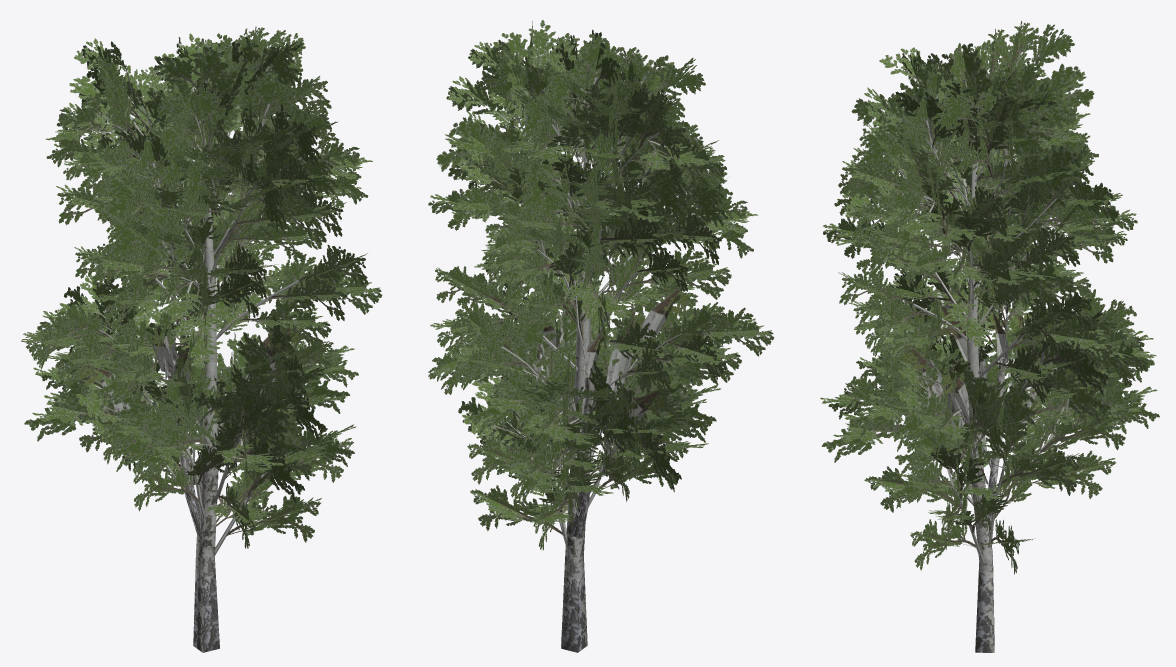
File: BetulaPapyrifera.glb
The picture shows the model from 3 angles, left to right: view 1: azimuth 30°, elevation 25°; view 2: azimuth 150°, elevation 25°; view 3: azimuth 270°, elevation 25°; orthographic projection. The views are drawn at different scales.
Visible parts, largest first — view 1: Paper_Birch__Realistic_LOD3; view 2: Paper_Birch__Realistic_LOD3; view 3: Paper_Birch__Realistic_LOD3.
Part boxes in pixels (box(x1,y1,x2,y2)): Paper_Birch__Realistic_LOD3: box(21, 26, 382, 652); Paper_Birch__Realistic_LOD3: box(428, 20, 774, 652); Paper_Birch__Realistic_LOD3: box(820, 20, 1159, 652).
Bounding box in the file's own units: 12.7 × 22.34 × 11.83.
Materials: 1 (1 with a texture image).
